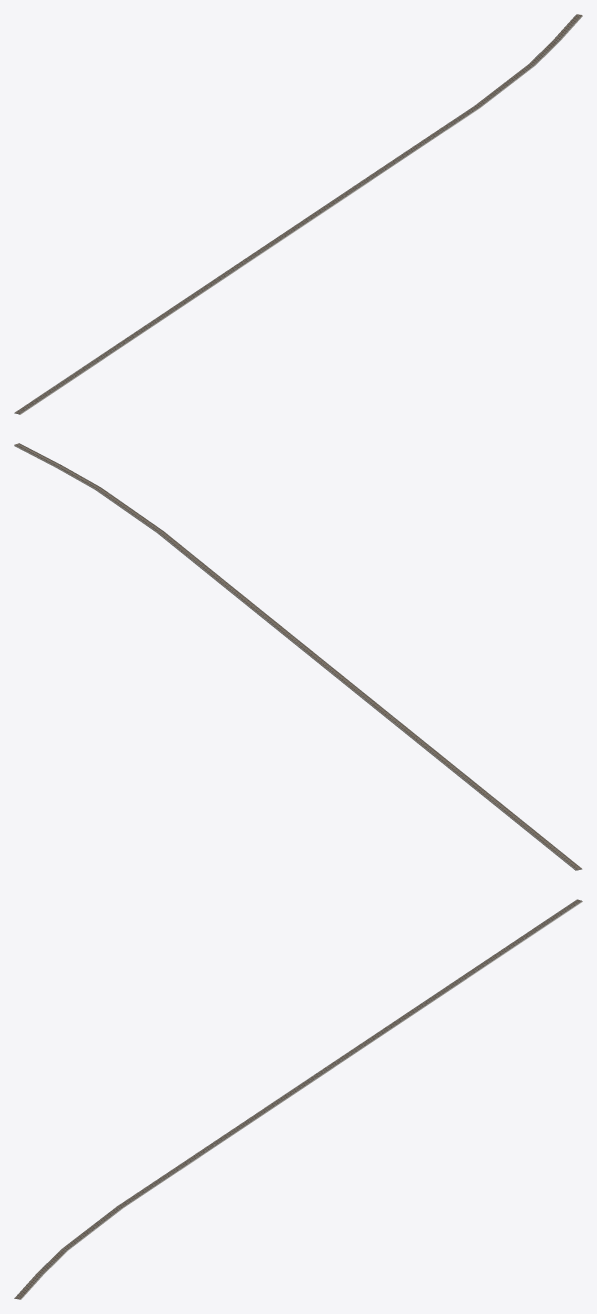
Rendered from rail_01205.glb.
3 views of the same model, one above another, from view 1: azimuth 90°, elevation 25°; view 2: azimuth 150°, elevation 25°; view 3: azimuth 270°, elevation 25° (orthographic). The views are drawn at different scales.
Visible parts, largest first — view 1: Sleepers, Ballast, Rails; view 2: Sleepers, Ballast, Rails; view 3: Sleepers, Ballast, Rails.
Part boxes in pixels (x1,y1,x2,y2): Sleepers: (15,14,582,413); Ballast: (14,14,582,414); Rails: (16,14,580,413); Sleepers: (14,443,581,869); Ballast: (14,444,582,870); Rails: (16,443,581,869); Sleepers: (15,899,581,1299); Ballast: (14,900,582,1299); Rails: (16,899,581,1298).
Bounding box in the file's own units: 367 × 0.48 × 221.
